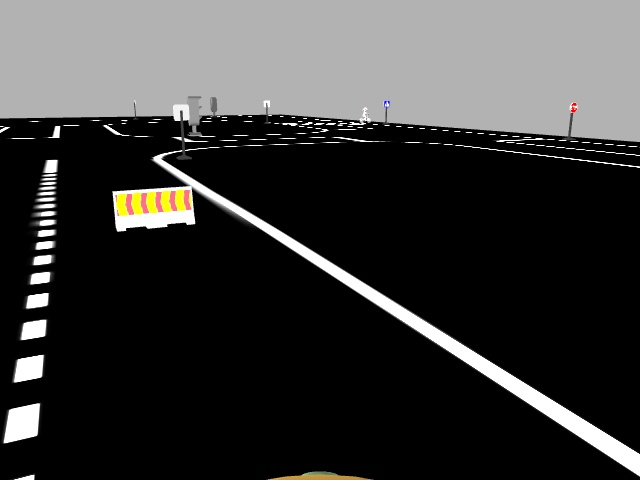ClosedRoadStand: (113, 190, 196, 223)
